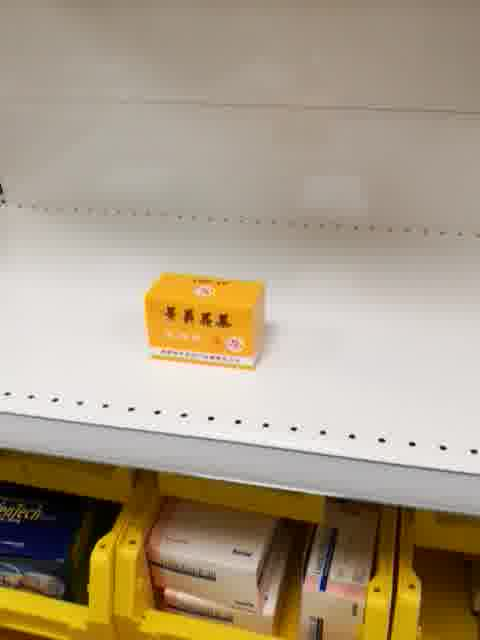jasminetea: (144, 270, 271, 373)
